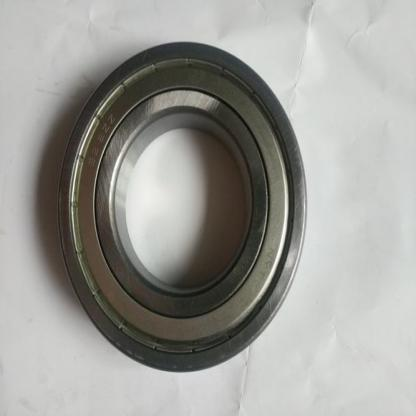FOD: (54, 37, 311, 381)
